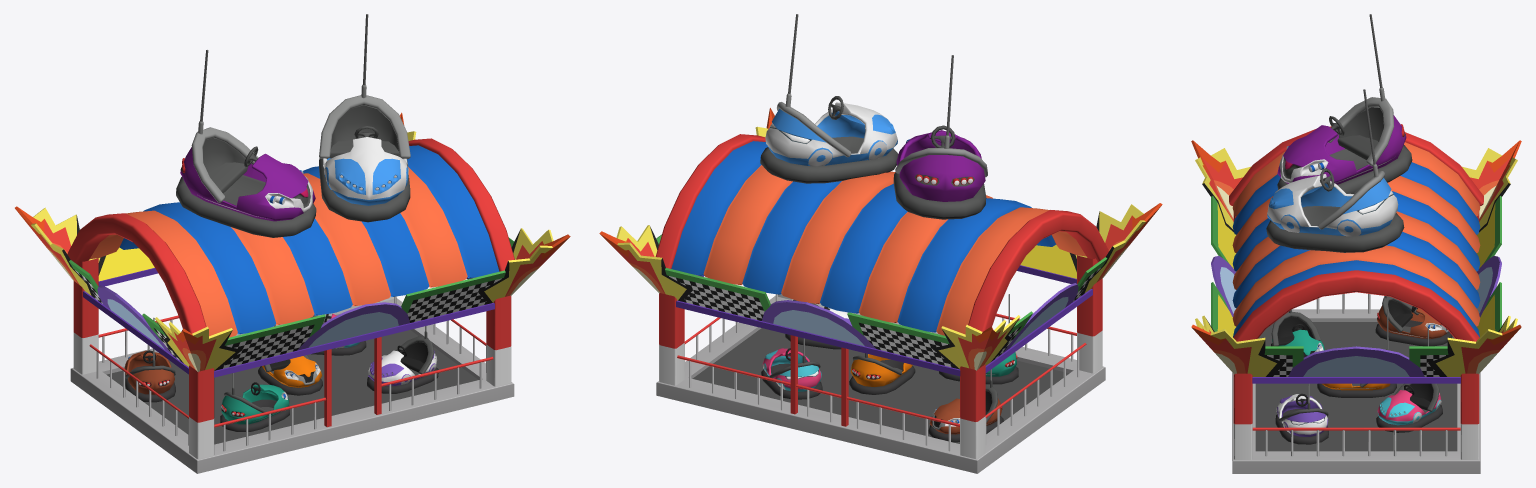
Rendered from attraction_4_001.gltf.
The picture shows the model from 3 angles, left to right: view 1: azimuth 30°, elevation 25°; view 2: azimuth 150°, elevation 25°; view 3: azimuth 270°, elevation 25°; orthographic projection. The views are drawn at different scales.
Visible parts, largest first — view 1: attraction_4_001, attraction_4_002, attraction_4_005, attraction_4_004, attraction_4_006; view 2: attraction_4_001, attraction_4_006, attraction_4_003, attraction_4_004, attraction_4_005; view 3: attraction_4_001, attraction_4_003, attraction_4_004, attraction_4_002, attraction_4_005, attraction_4_006.
Boxes of the visible parts, x1,y1,x2,y2 form: attraction_4_001: [15, 14, 570, 473]; attraction_4_002: [367, 326, 438, 393]; attraction_4_005: [220, 373, 289, 431]; attraction_4_004: [124, 317, 175, 402]; attraction_4_006: [258, 324, 322, 395]; attraction_4_001: [599, 14, 1162, 473]; attraction_4_006: [849, 353, 915, 394]; attraction_4_003: [761, 338, 822, 399]; attraction_4_004: [928, 369, 1003, 442]; attraction_4_005: [939, 294, 1018, 384]; attraction_4_001: [1191, 14, 1521, 473]; attraction_4_003: [1376, 328, 1442, 432]; attraction_4_004: [1375, 296, 1452, 346]; attraction_4_002: [1275, 383, 1328, 444]; attraction_4_005: [1271, 309, 1324, 357]; attraction_4_006: [1317, 308, 1396, 397].
Size of the model in its own units: 12.41 by 10.79 by 9.33.
Materials: 2 (1 with a texture image).
